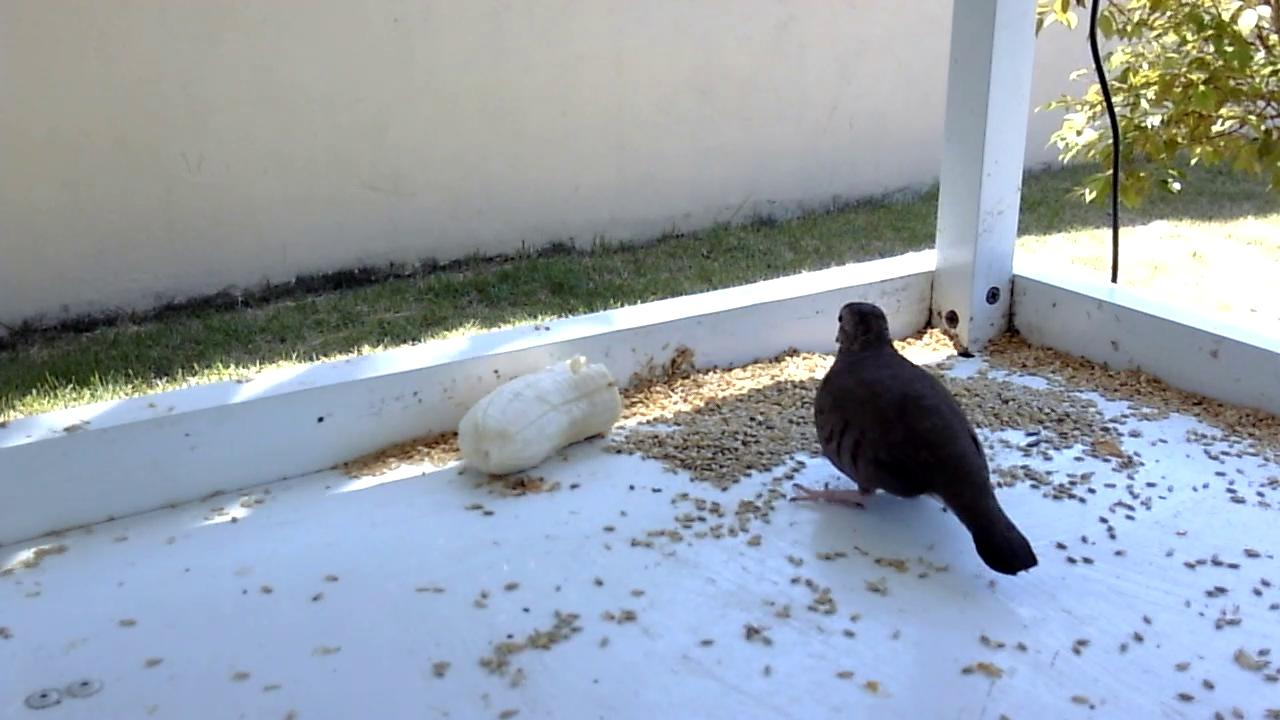rolinha: (788, 300, 1043, 580)
